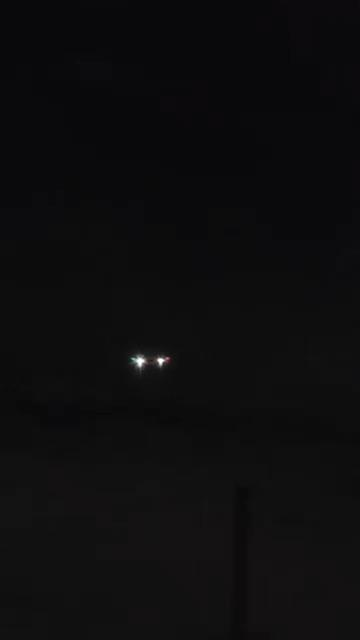Plane: (116, 340, 191, 383)
